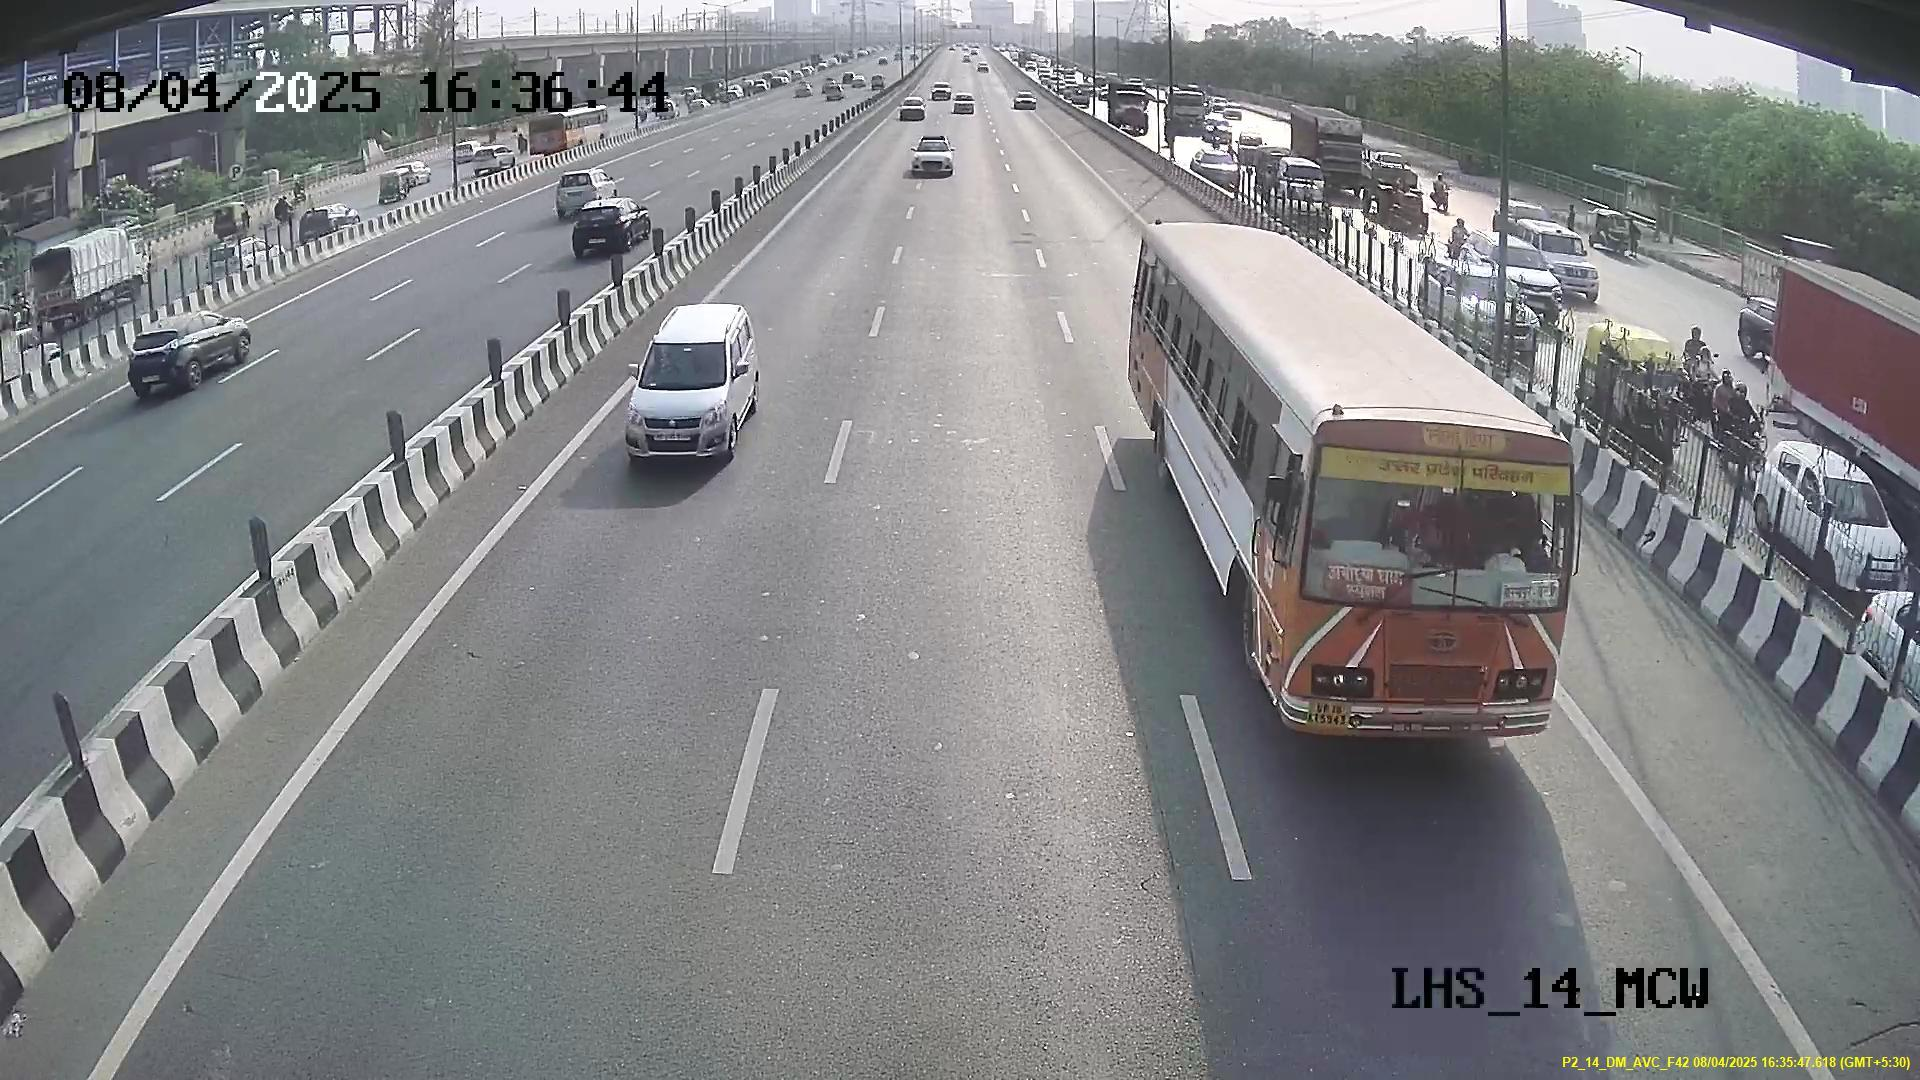bus: (1212, 378, 1577, 744)
car: (622, 310, 760, 465)
